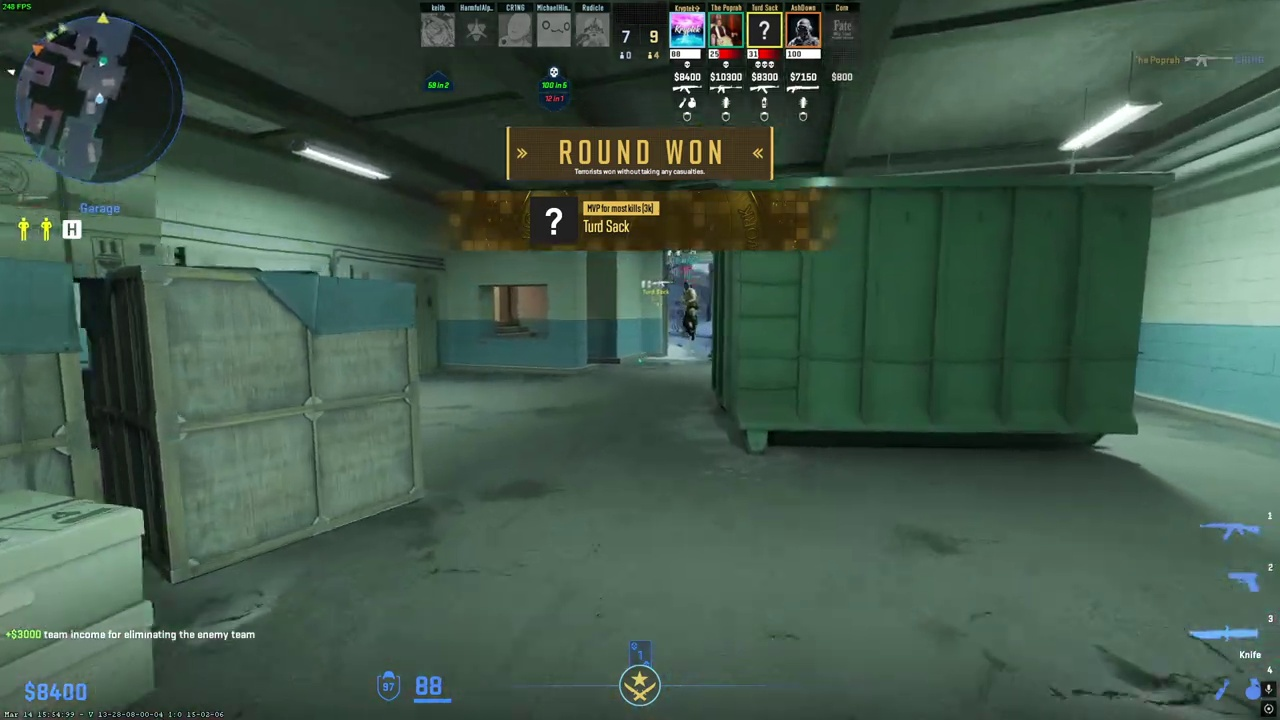Terrorist: (680, 282, 699, 340)
